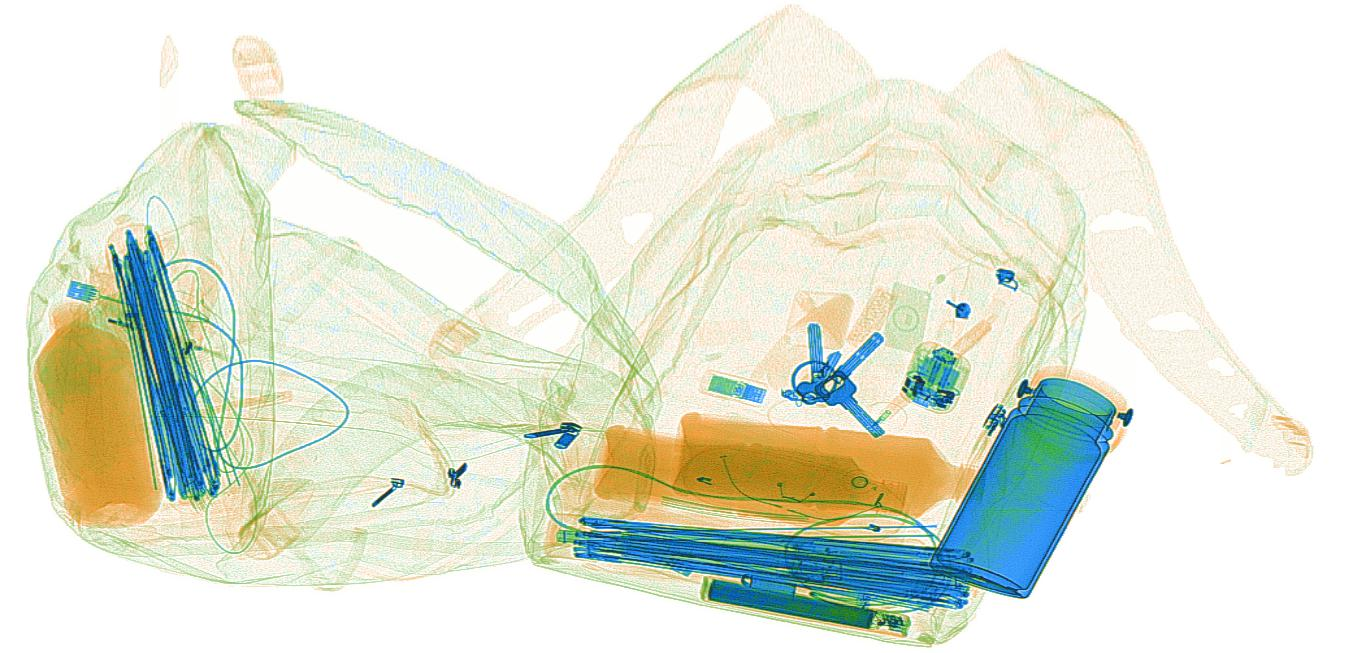USBFlashDisk: (707, 373, 768, 405)
